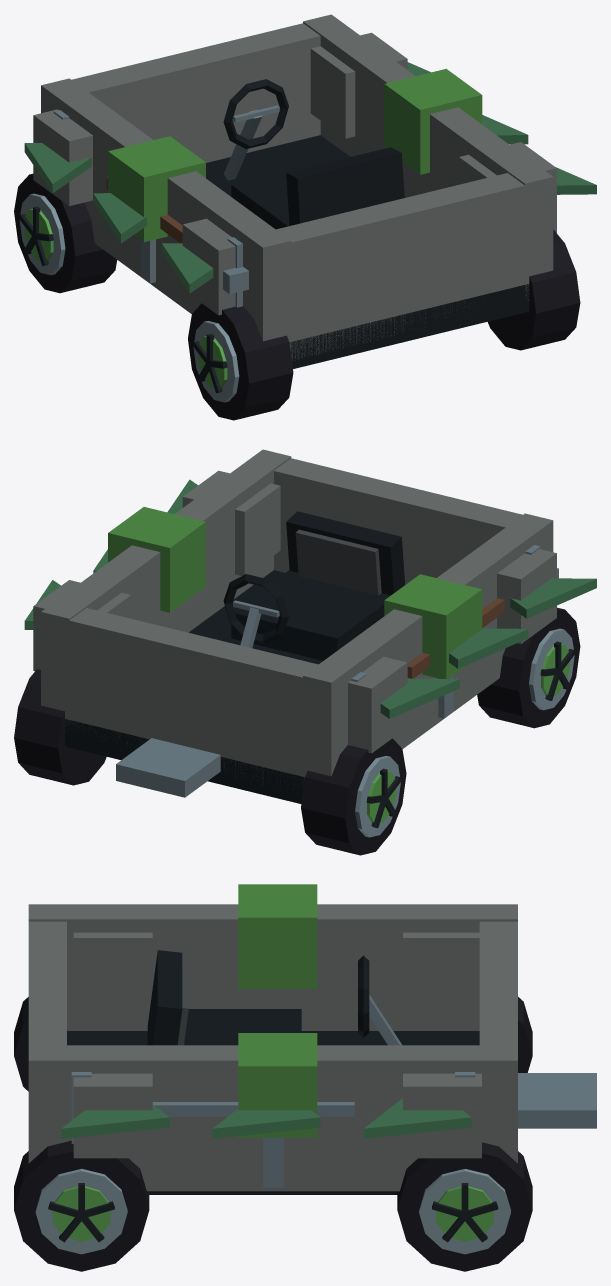
Rendered from kart.glb.
3 views of the same model, one above another, from view 1: azimuth 30°, elevation 25°; view 2: azimuth 150°, elevation 25°; view 3: azimuth 270°, elevation 25° (orthographic). The views are drawn at different scales.
Visible parts, largest first — view 1: identity-minecart-minecart-riveted-open-bin, identity-minecart-motif-blocks, identity-minecart-driver-cockpit, wheel-rear-left, wheel-front-left, identity-minecart-motif-leaves, wheel-rear-right, identity-minecart-motif-tools; view 2: identity-minecart-minecart-riveted-open-bin, identity-minecart-motif-blocks, identity-minecart-driver-cockpit, wheel-front-left, wheel-rear-left, identity-minecart-motif-leaves, wheel-front-right, identity-minecart-motif-tools; view 3: identity-minecart-minecart-riveted-open-bin, identity-minecart-motif-blocks, wheel-rear-right, wheel-front-right, identity-minecart-driver-cockpit, identity-minecart-motif-leaves, identity-minecart-motif-tools, wheel-rear-left, wheel-front-left.
Part boxes in pixels (<box>): identity-minecart-minecart-riveted-open-bin: <box>41,14,553,368</box>; identity-minecart-motif-blocks: <box>33,32,556,315</box>; identity-minecart-driver-cockpit: <box>223,79,404,229</box>; wheel-rear-left: <box>188,303,293,420</box>; wheel-front-left: <box>14,173,116,293</box>; identity-minecart-motif-leaves: <box>24,62,596,293</box>; wheel-rear-right: <box>488,229,580,350</box>; identity-minecart-motif-tools: <box>106,177,248,294</box>; identity-minecart-minecart-riveted-open-bin: <box>41,449,553,803</box>; identity-minecart-motif-blocks: <box>33,470,556,753</box>; identity-minecart-driver-cockpit: <box>223,511,405,660</box>; wheel-front-left: <box>301,738,406,855</box>; wheel-rear-left: <box>477,607,580,728</box>; identity-minecart-motif-leaves: <box>24,479,596,718</box>; wheel-front-right: <box>14,669,106,785</box>; identity-minecart-motif-tools: <box>407,568,558,678</box>; identity-minecart-minecart-riveted-open-bin: <box>28,904,596,1194</box>; identity-minecart-motif-blocks: <box>73,884,481,1158</box>; wheel-rear-right: <box>14,1140,149,1271</box>; wheel-front-right: <box>397,1142,532,1271</box>; identity-minecart-driver-cockpit: <box>147,950,401,1045</box>; identity-minecart-motif-leaves: <box>61,1098,471,1138</box>; identity-minecart-motif-tools: <box>152,1102,354,1116</box>; wheel-rear-left: <box>14,997,28,1091</box>; wheel-front-left: <box>518,997,532,1072</box>.
Bounding box in the file's own units: 2.3 × 1.09 × 2.58.
